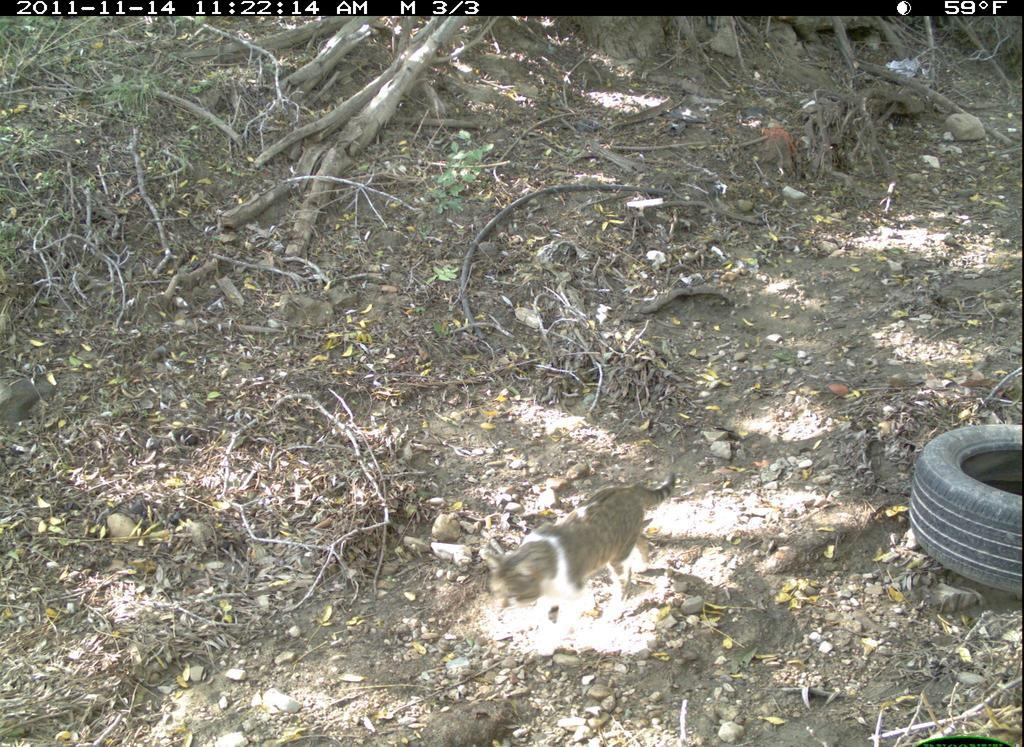cat: (482, 464, 684, 635)
